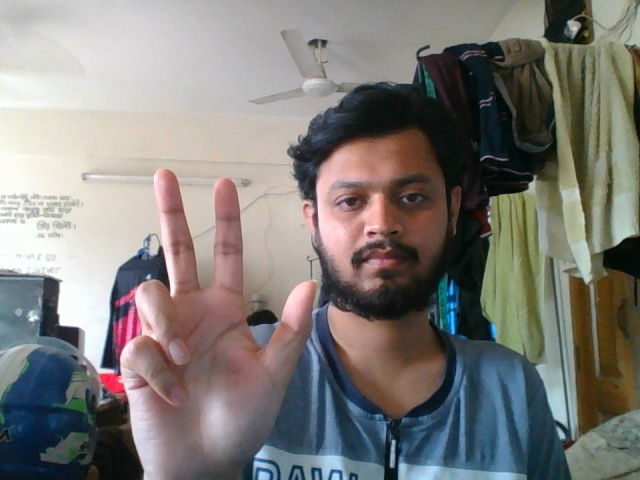da: (104, 162, 325, 480)
